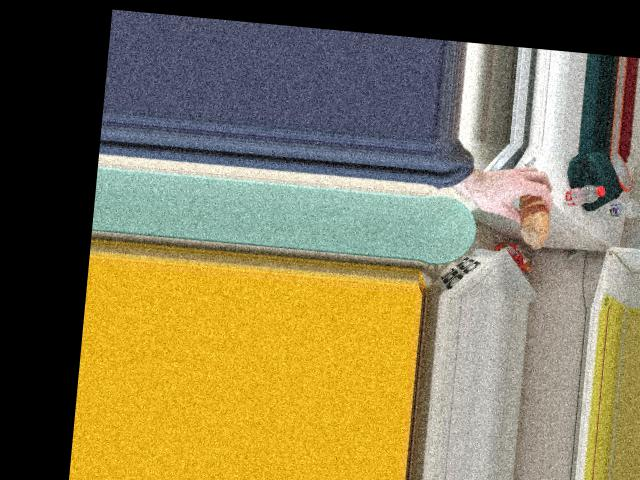sweet_potato: (501, 179, 547, 233)
